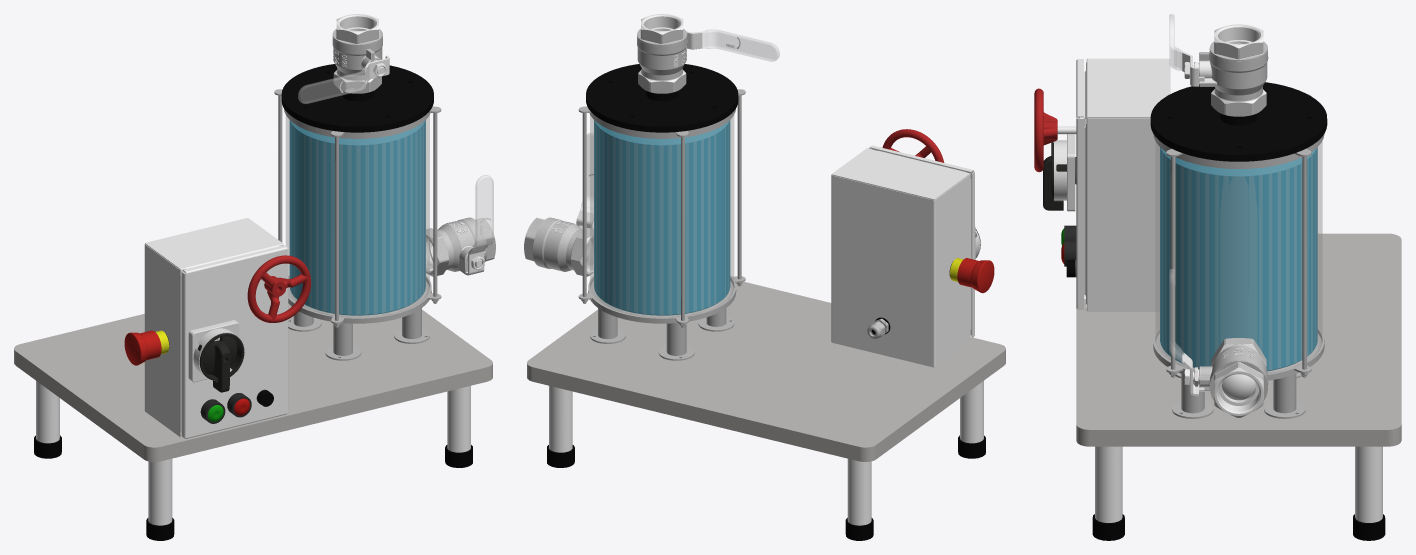
File: ESTACAO_ALUNO.glb
3 views of the same model, side by side, from view 1: azimuth 30°, elevation 25°; view 2: azimuth 150°, elevation 25°; view 3: azimuth 270°, elevation 25° (orthographic). The views are drawn at different scales.
Visible parts, largest first — view 1: Solid1 (×5), Sólido1 (×11); view 2: Solid1 (×5), Sólido1 (×9); view 3: Solid1 (×4), Sólido1 (×11).
Boxes of the visible parts, x1=… form: Solid1 (×5): x1=14, y1=64, x2=492, y2=540; Sólido1 (×11): x1=144, y1=14, x2=495, y2=438; Solid1 (×5): x1=527, y1=64, x2=1005, y2=540; Sólido1 (×9): x1=524, y1=14, x2=974, y2=366; Solid1 (×4): x1=1034, y1=82, x2=1401, y2=540; Sólido1 (×11): x1=1043, y1=14, x2=1324, y2=418.
Size of the model in its own units: 0.5835 by 0.5625 by 0.395.
28 materials, 5 textured.
